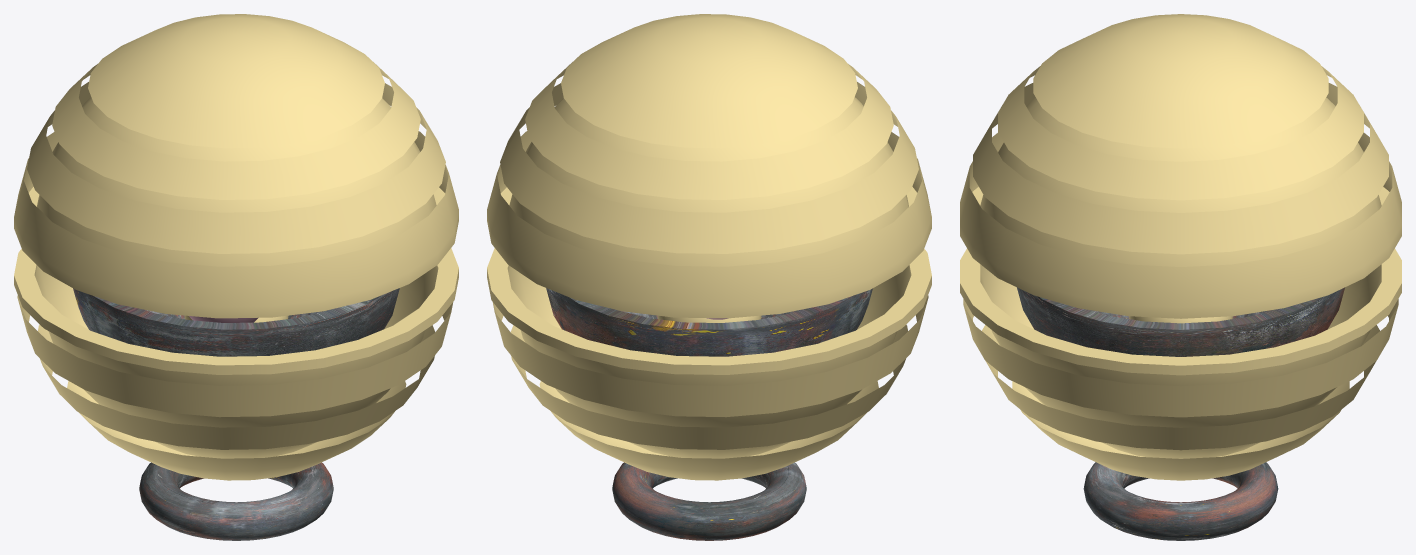
Rendered from dynamic1.fbx.
The picture shows the model from 3 angles, left to right: view 1: azimuth 30°, elevation 25°; view 2: azimuth 150°, elevation 25°; view 3: azimuth 270°, elevation 25°; orthographic projection.
Visible parts, largest first — view 1: Sphère, Sphère_1, Sphère_2, Tore; view 2: Sphère, Sphère_1, Sphère_2, Tore; view 3: Sphère, Sphère_1, Sphère_2, Tore.
Boxes of the visible parts, x1,y1,x2,y2 form: Sphère: [14, 14, 458, 318]; Sphère_1: [14, 248, 458, 480]; Sphère_2: [73, 288, 399, 356]; Tore: [139, 462, 333, 540]; Sphère: [487, 14, 931, 318]; Sphère_1: [487, 248, 931, 480]; Sphère_2: [546, 288, 872, 356]; Tore: [612, 462, 806, 540]; Sphère: [960, 14, 1401, 318]; Sphère_1: [960, 248, 1401, 480]; Sphère_2: [1017, 287, 1344, 356]; Tore: [1083, 462, 1278, 540].
Size of the model in its own units: 10.94 by 12.77 by 10.86.
